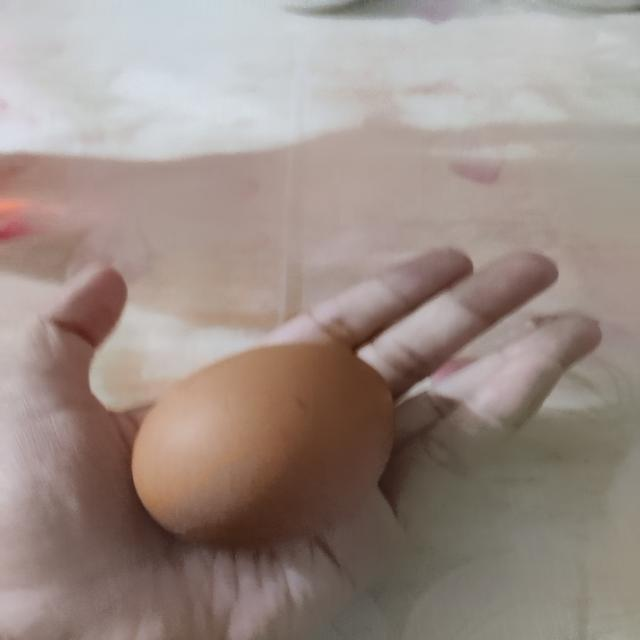egg: (131, 339, 400, 546)
